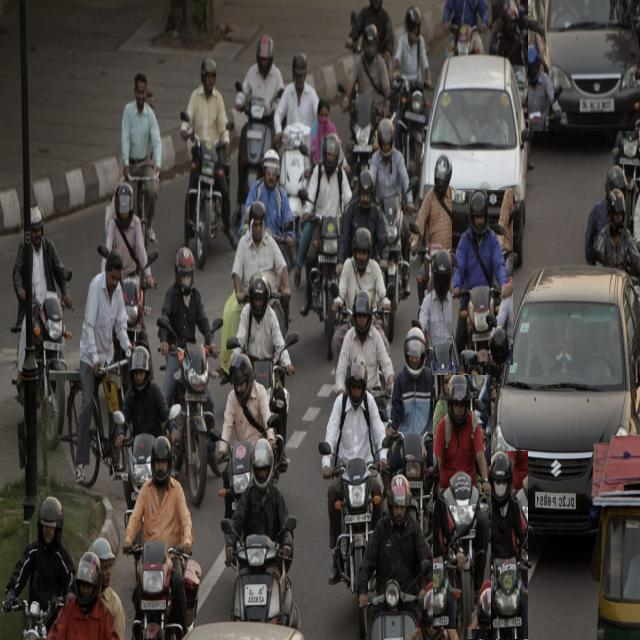car: (492, 267, 640, 532), (420, 56, 532, 266), (528, 0, 640, 131)
motorcycle: (122, 436, 201, 640), (158, 247, 220, 504), (322, 356, 388, 596), (221, 438, 300, 628), (433, 375, 490, 629), (181, 58, 238, 269), (468, 451, 528, 640), (452, 191, 512, 365)
